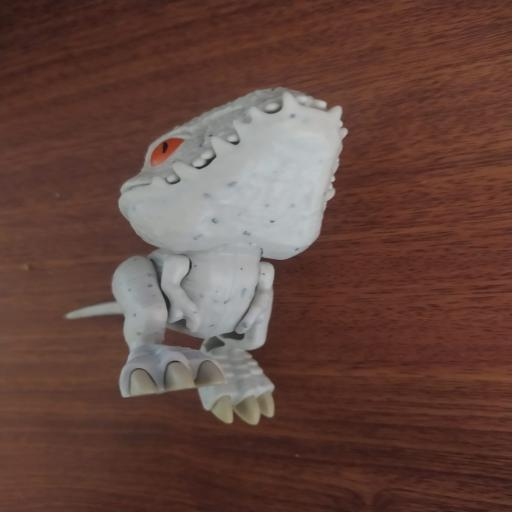Dinosaurio: (58, 74, 358, 437)
